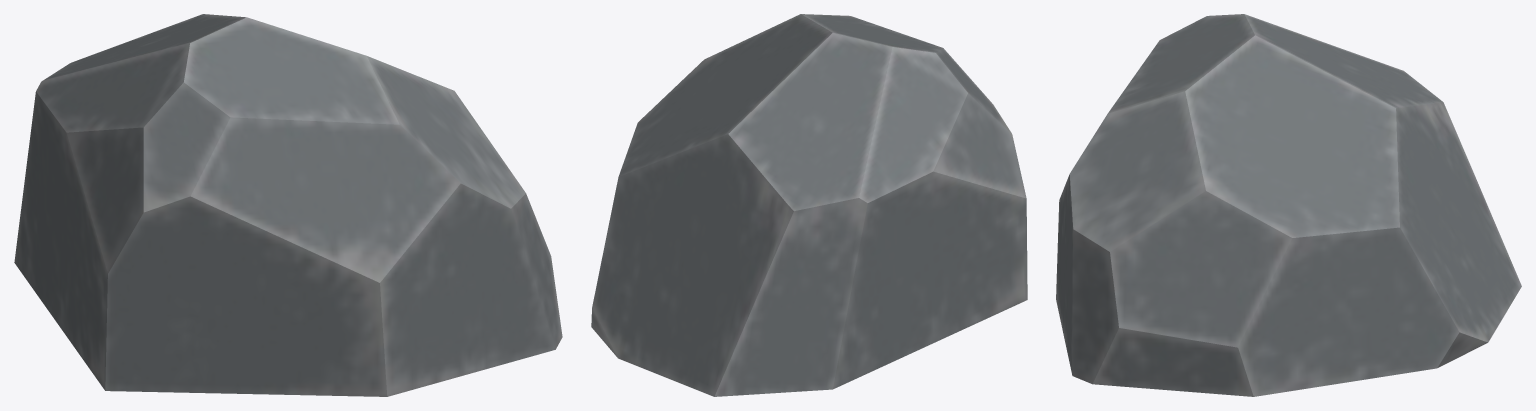
The model's file is rock8.glb.
3 renders of one model, left to right at view 1: azimuth 30°, elevation 25°; view 2: azimuth 150°, elevation 25°; view 3: azimuth 270°, elevation 25°, orthographic. The views are drawn at different scales.
Visible parts, largest first — view 1: rock_008; view 2: rock_008; view 3: rock_008.
Boxes of the visible parts, x1,y1,x2,y2 form: rock_008: (14,14,562,396); rock_008: (591,14,1027,396); rock_008: (1056,14,1521,396).
Bounding box in the file's own units: 0.2458 × 0.1679 × 0.2717.
1 material, 1 textured.
